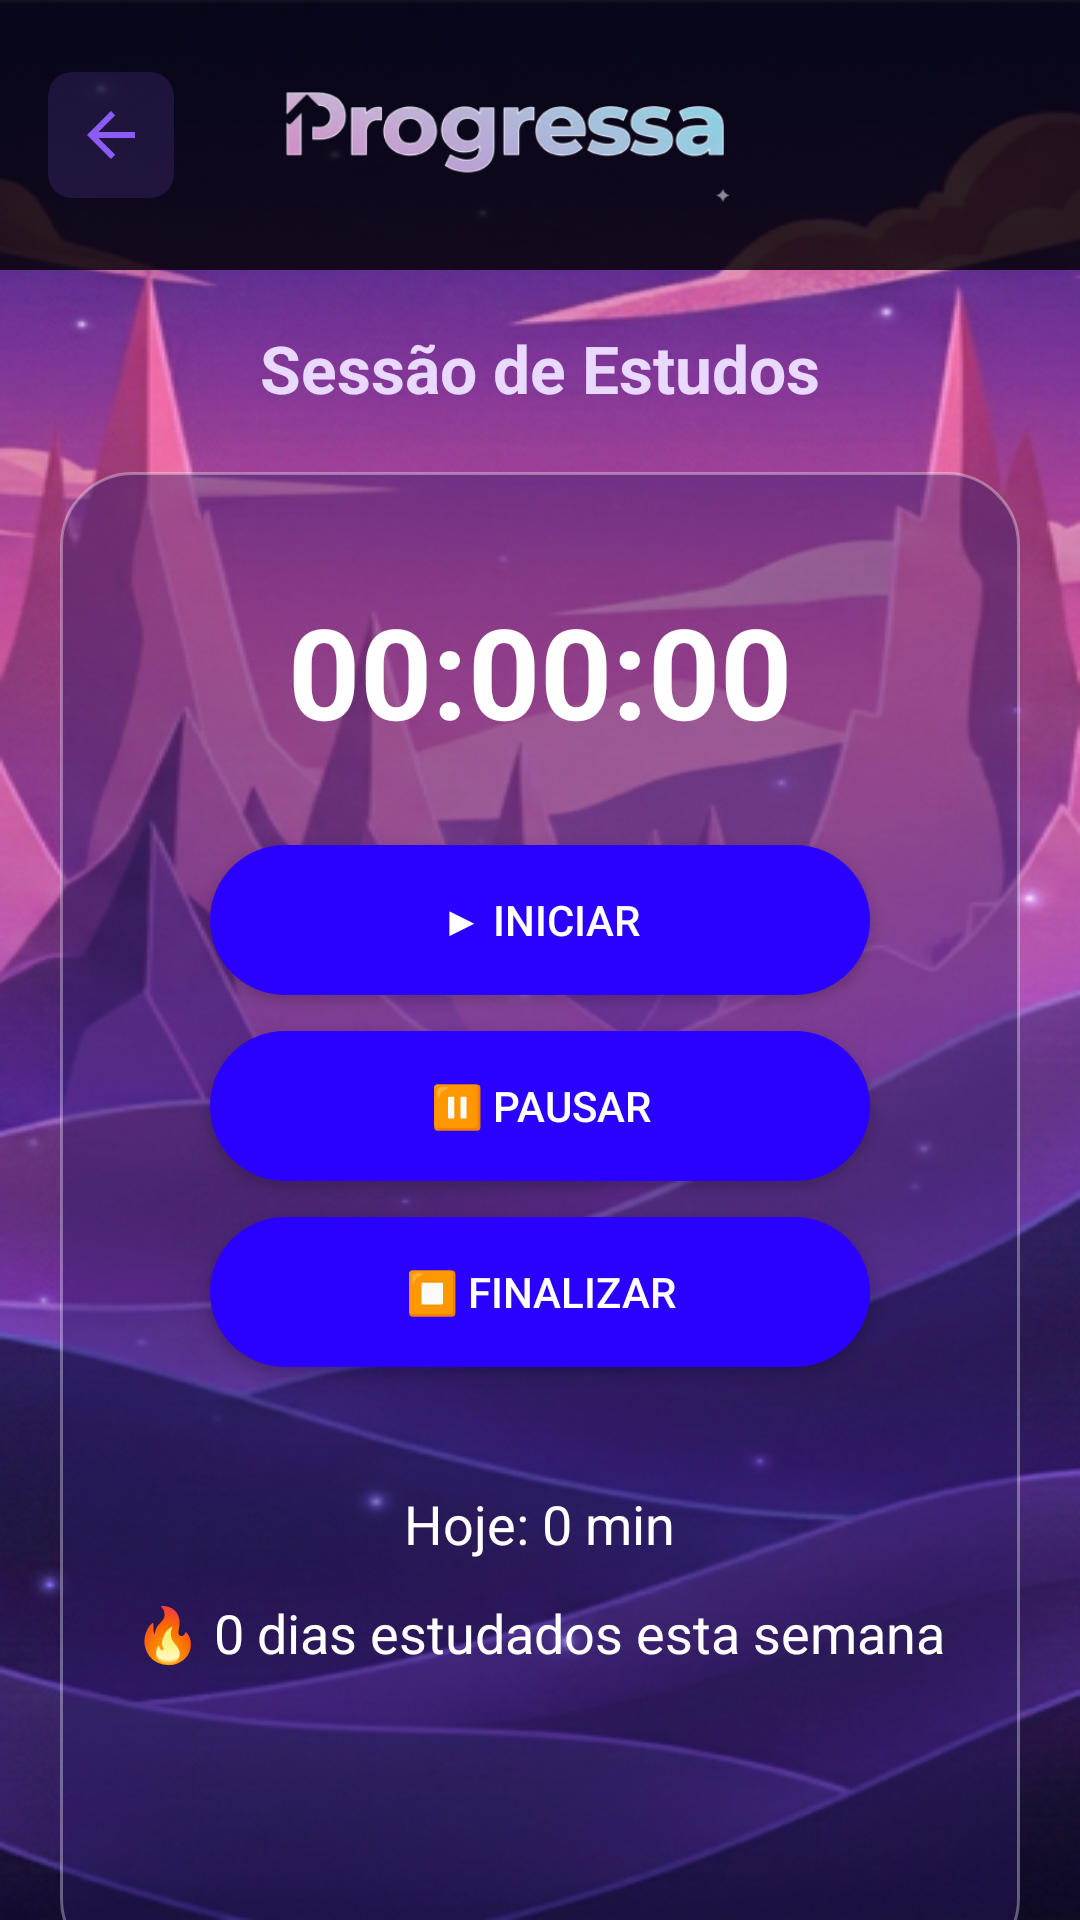

Named icons in this screenshot (1080 x 1920) and their centers, point (x, y):
Voltar: point (111, 135)
